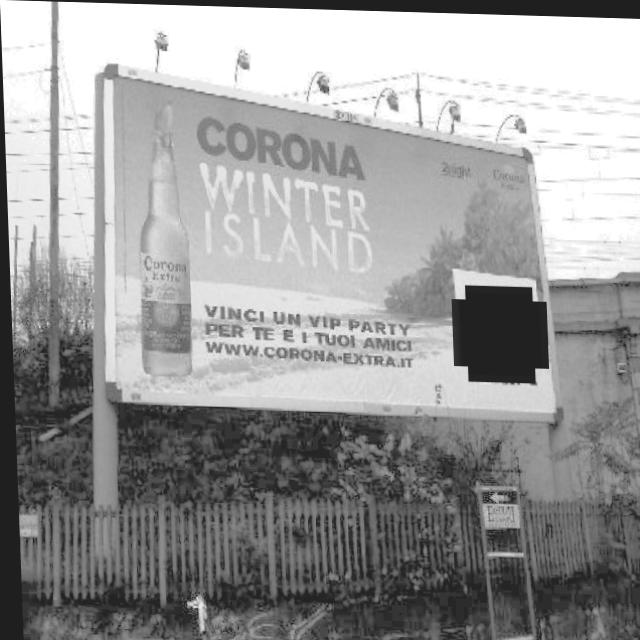qr_code: (456, 289, 540, 373)
